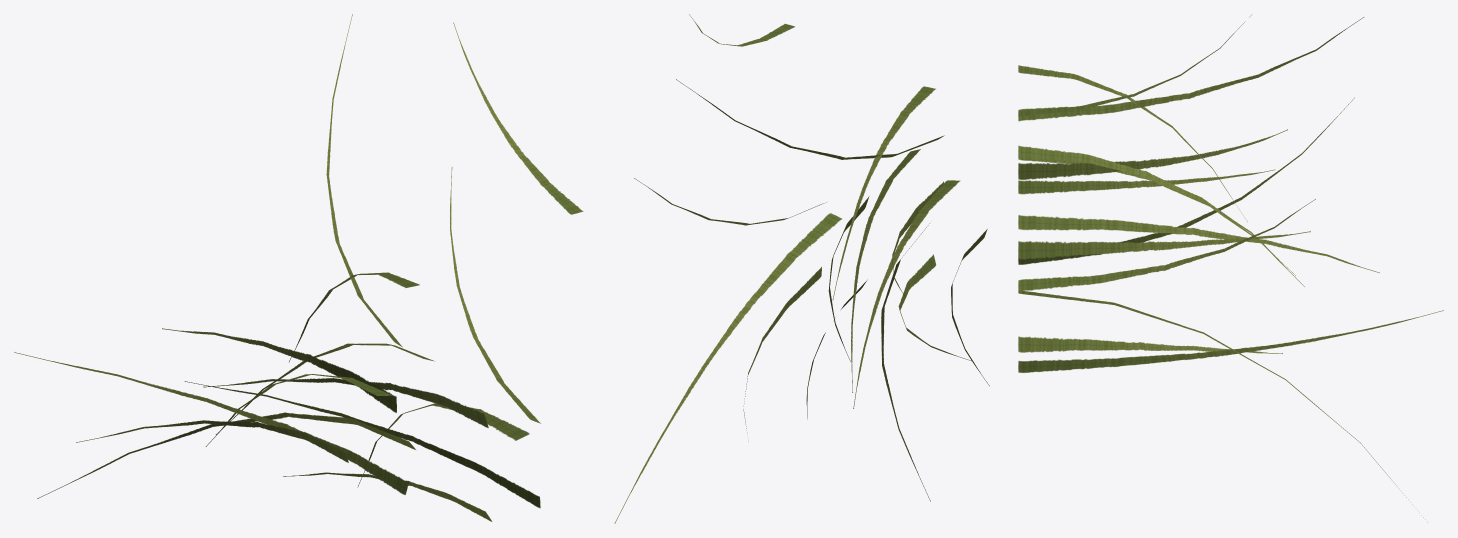
File: Tuft_Wild.glb
3 views of the same model, side by side, from view 1: azimuth 30°, elevation 25°; view 2: azimuth 150°, elevation 25°; view 3: azimuth 270°, elevation 25° (orthographic). The views are drawn at different scales.
Visible parts, largest first — view 1: Tuft_Wild; view 2: Tuft_Wild; view 3: Tuft_Wild.
Boxes of the visible parts, box(x1,y1,x2,y2) form: Tuft_Wild: box(14, 14, 583, 521); Tuft_Wild: box(614, 14, 989, 523); Tuft_Wild: box(1018, 15, 1443, 519).
Size of the model in its own units: 0.5046 by 0.6118 by 0.461.
1 material, 1 textured.
